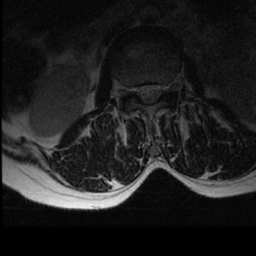CCS_normal: (145, 77, 154, 109)
LFS_stenosis: (163, 79, 169, 100)
LLS_normal: (154, 79, 162, 104)
RFS_stenosis: (130, 80, 138, 104)
RLS_normal: (137, 80, 145, 106)
